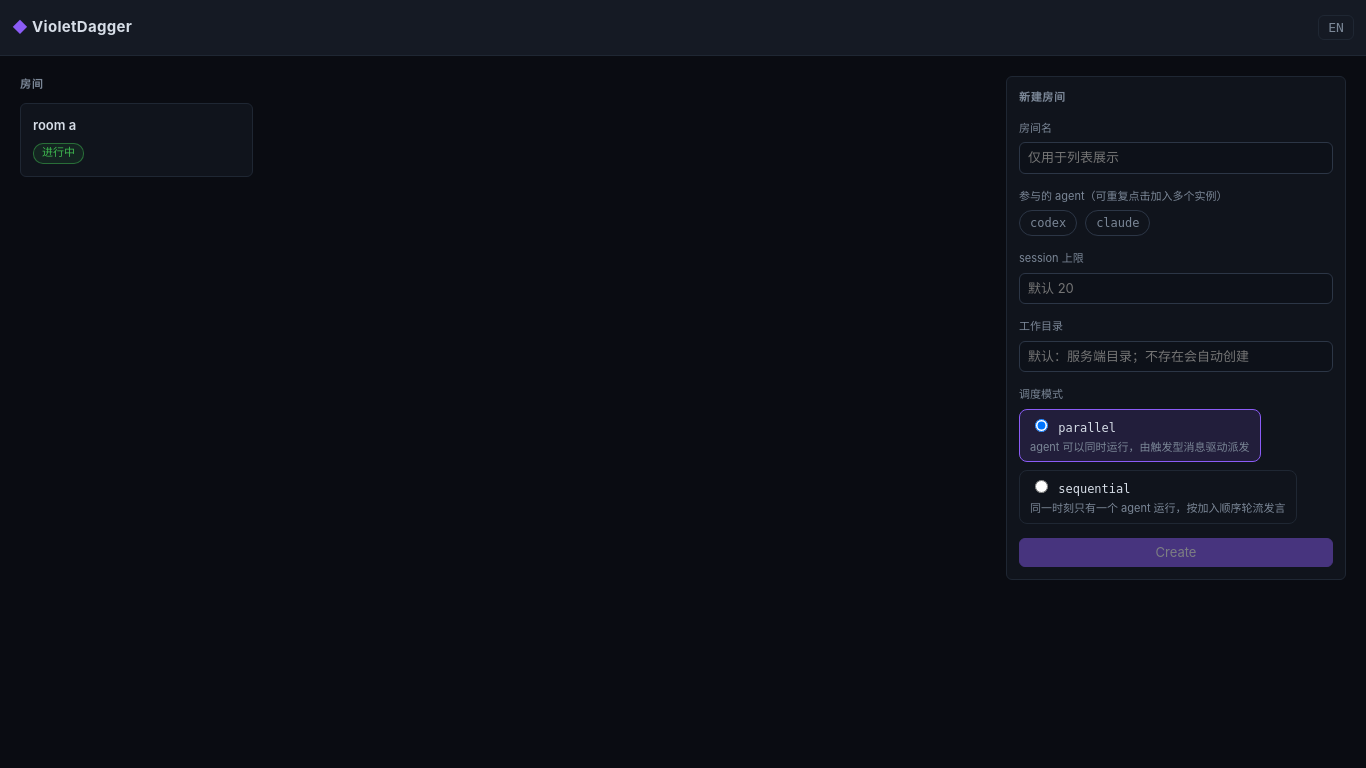
Test: RoomListPage › allows adding the same agent multiple times and previews numbered instances
Click the button with aria-label "add codex" at x=1048, y=223, box [1019,210,1077,236]
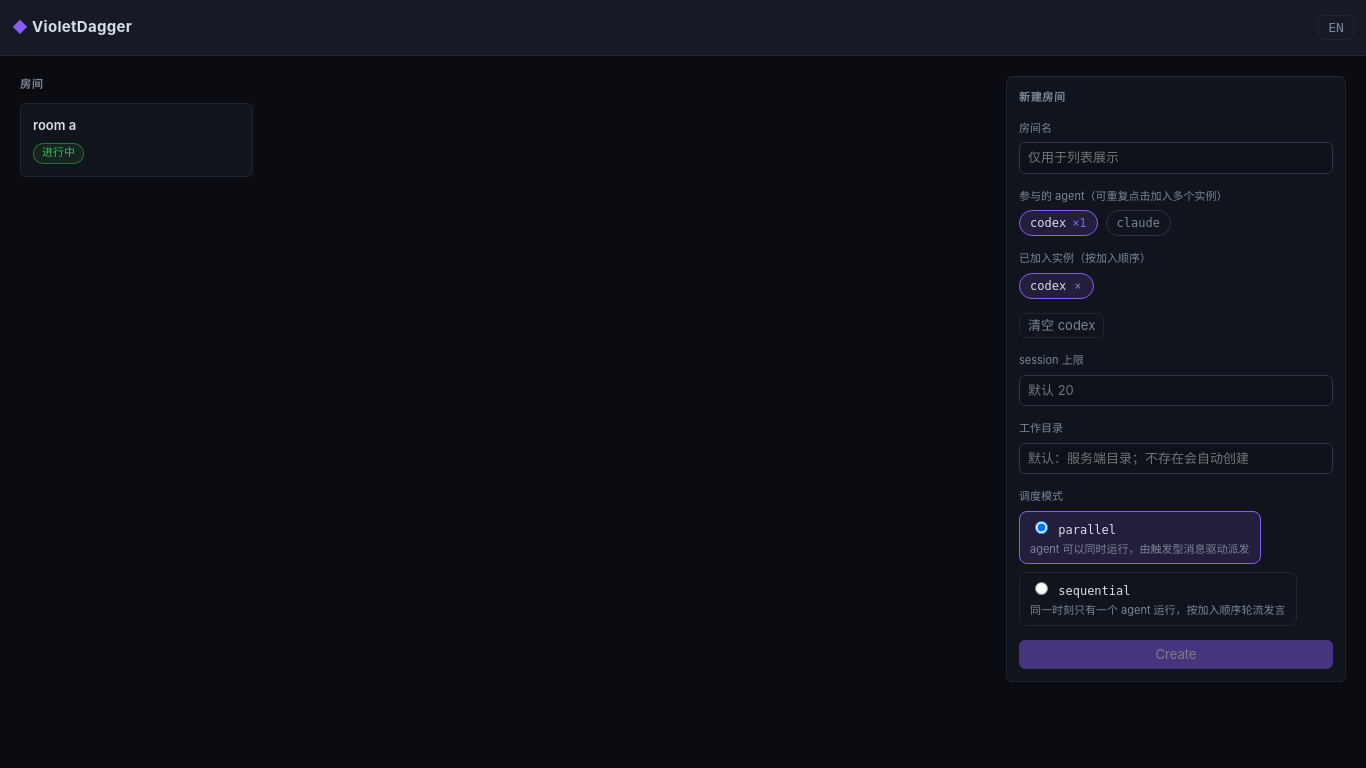
Click the button with aria-label "add codex" at x=1058, y=223, box [1019,210,1098,236]
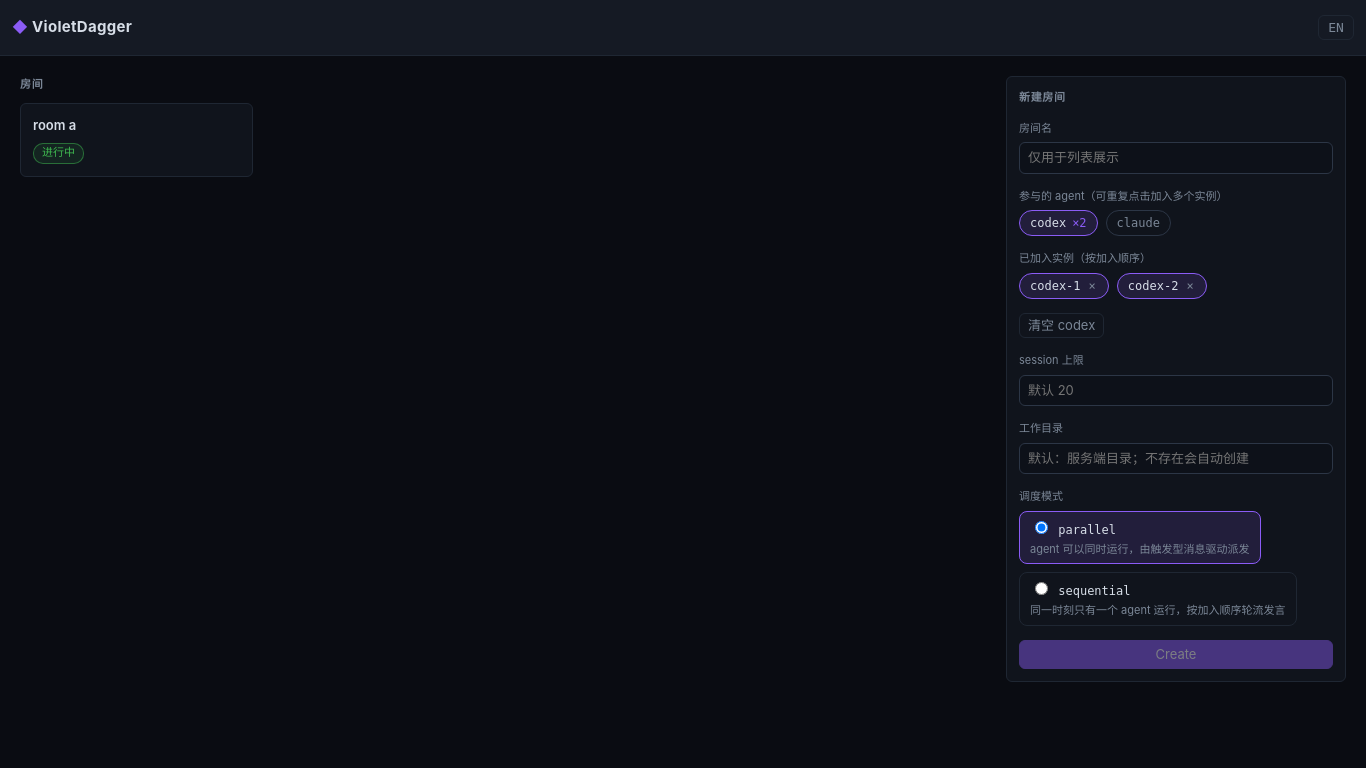
Expected: the text "codex-1" is shown, [1030,278,1081,292]
Expected: the text "codex-2" is shown, [1128,278,1178,292]
Click the button named "remove codex-1" at x=1092, y=286, box [1087,276,1098,294]
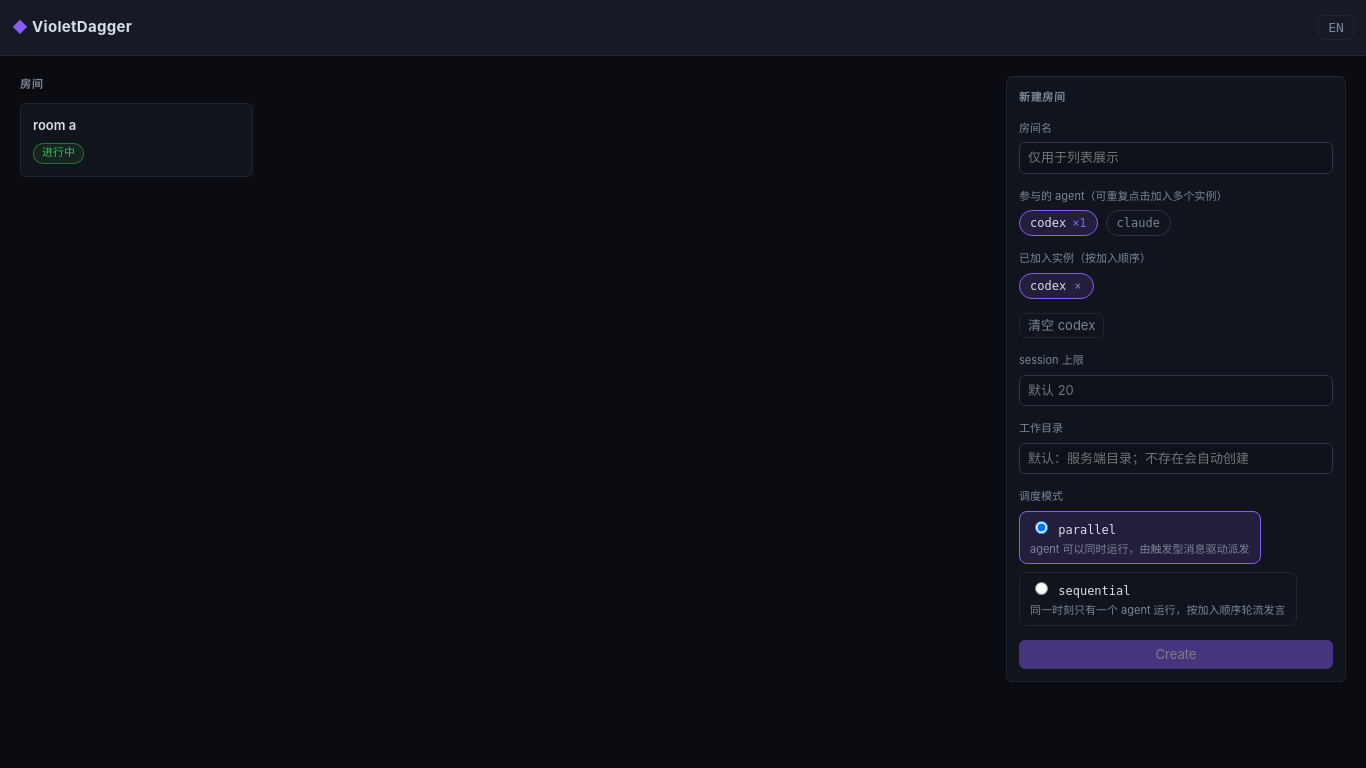
Expected: the button "codex ×1" is shown, [1019,210,1098,236]
Expected: the text "codex-1" is gone
